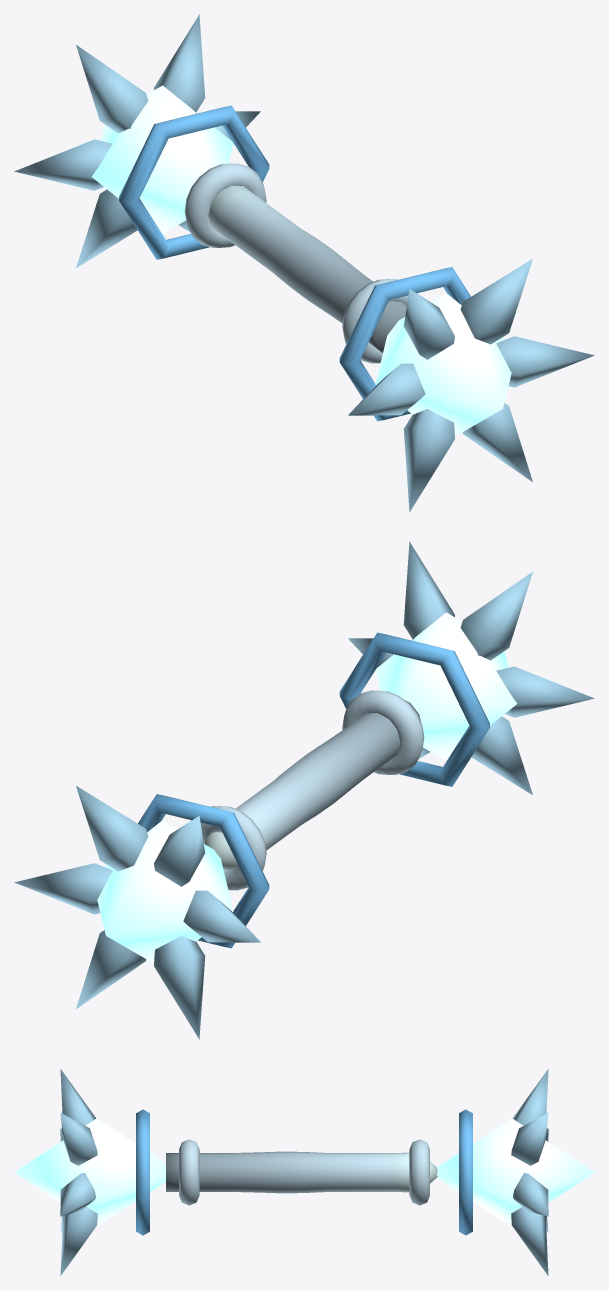
File: CrystalDumbbell.fbx
The picture shows the model from 3 angles, top to bottom: view 1: azimuth 30°, elevation 25°; view 2: azimuth 150°, elevation 25°; view 3: azimuth 270°, elevation 25°; orthographic projection. The views are drawn at different scales.
Parts seen in each view (by area): view 1: CrystalDumbbell, CrystalDumbbell_Glow; view 2: CrystalDumbbell, CrystalDumbbell_Glow; view 3: CrystalDumbbell, CrystalDumbbell_Glow.
Boxes of the visible parts, x1=… form: CrystalDumbbell: x1=14, y1=14, x2=594, y2=512; CrystalDumbbell_Glow: x1=91, y1=85, x2=511, y2=436; CrystalDumbbell: x1=14, y1=541, x2=594, y2=1039; CrystalDumbbell_Glow: x1=97, y1=612, x2=517, y2=963; CrystalDumbbell: x1=60, y1=1069, x2=548, y2=1275; CrystalDumbbell_Glow: x1=14, y1=1118, x2=594, y2=1226.
Bounding box in the file's own units: 90.61 × 78.47 × 252.
2 materials, 1 textured.
